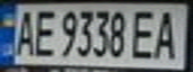3: (90, 7, 112, 58), (75, 7, 93, 58)
8: (106, 7, 130, 60)
9: (54, 7, 78, 58)
A: (151, 7, 184, 61), (9, 7, 39, 57)
E: (127, 7, 160, 61), (30, 6, 57, 57)
